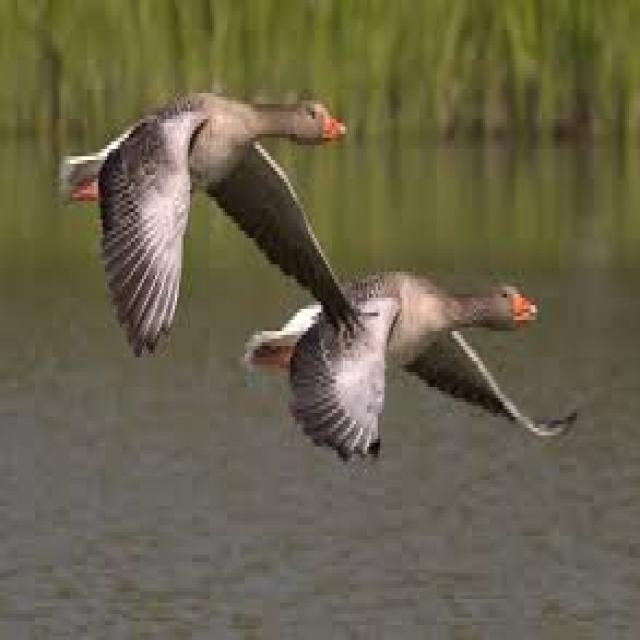bird: (3, 3, 392, 380), (232, 238, 632, 514)
